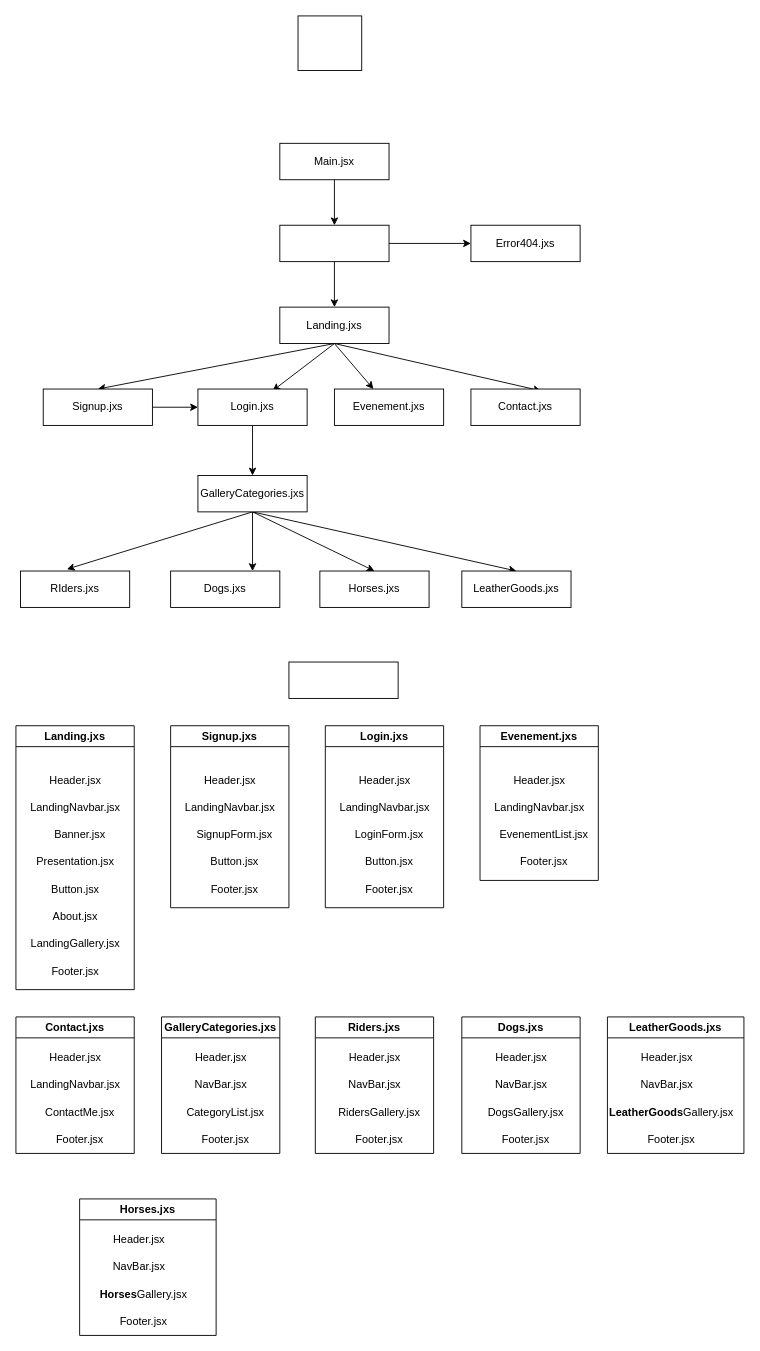
The diagram is 760 pixels wide and 1351 high, and some of its shapes have lost their labels. Each missing label, with the centre of its shape:
App.jxs: (x=334, y=243)
Composants: (x=343, y=679)
Pages: (x=329, y=43)
